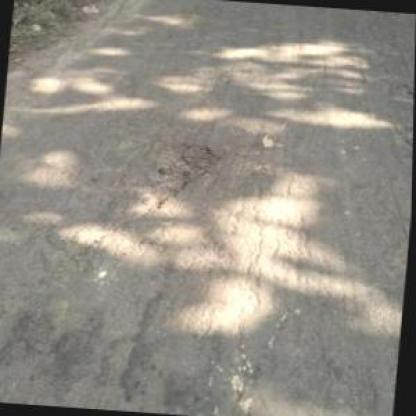pothole: (142, 137, 224, 222), (388, 82, 413, 109)
